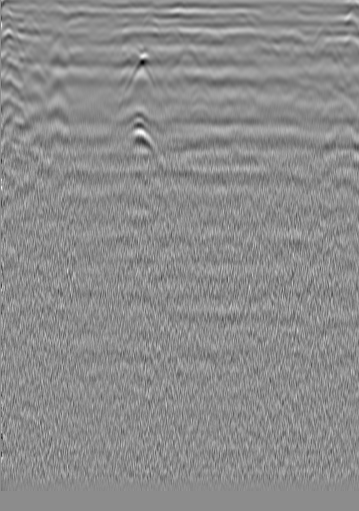가스: (116, 120, 162, 171)
상수: (311, 22, 331, 42)
오수: (48, 27, 68, 47)
우수: (166, 23, 186, 43)
